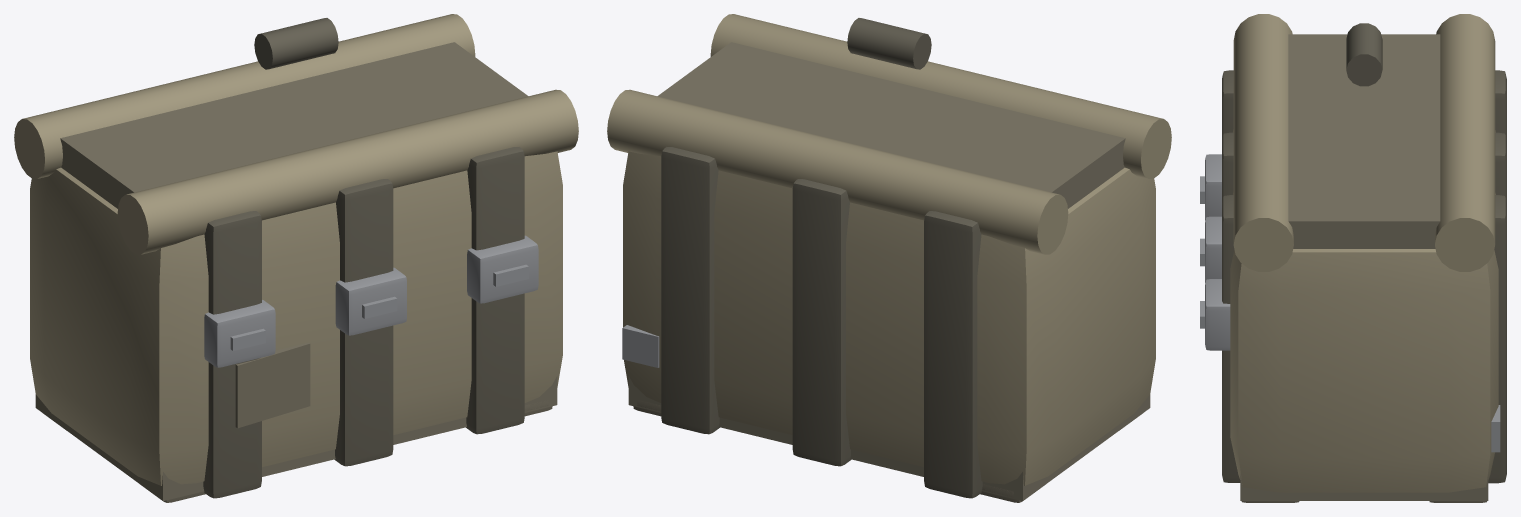
File: PR_loot_bag.fbx
3 renders of one model, left to right at view 1: azimuth 30°, elevation 25°; view 2: azimuth 150°, elevation 25°; view 3: azimuth 270°, elevation 25°, orthographic. The views are drawn at different scales.
Parts seen in each view (by area): view 1: PR_loot_bag; view 2: PR_loot_bag; view 3: PR_loot_bag.
Part boxes in pixels (left/top/right/bottom): PR_loot_bag: left=14, top=14, right=578, bottom=502; PR_loot_bag: left=607, top=14, right=1171, bottom=502; PR_loot_bag: left=1200, top=14, right=1506, bottom=502.
Size of the model in its own units: 0.72 by 0.6143 by 0.4575.
